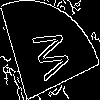W: (25, 24, 72, 86)
